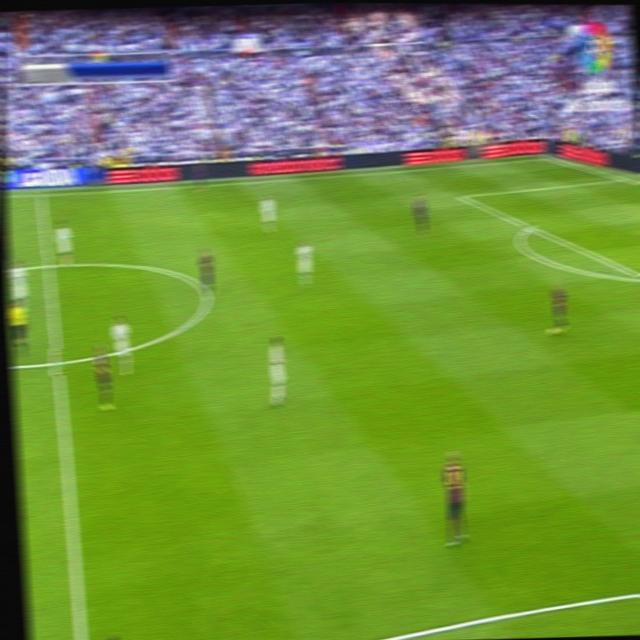corner: (540, 150, 552, 162)
halfcircle_bottom: (49, 348, 66, 375)
halfcircle_top: (42, 256, 55, 272)
midline_top_intersection: (36, 188, 46, 200)
top_arc_area_intersection: (523, 219, 536, 234)
